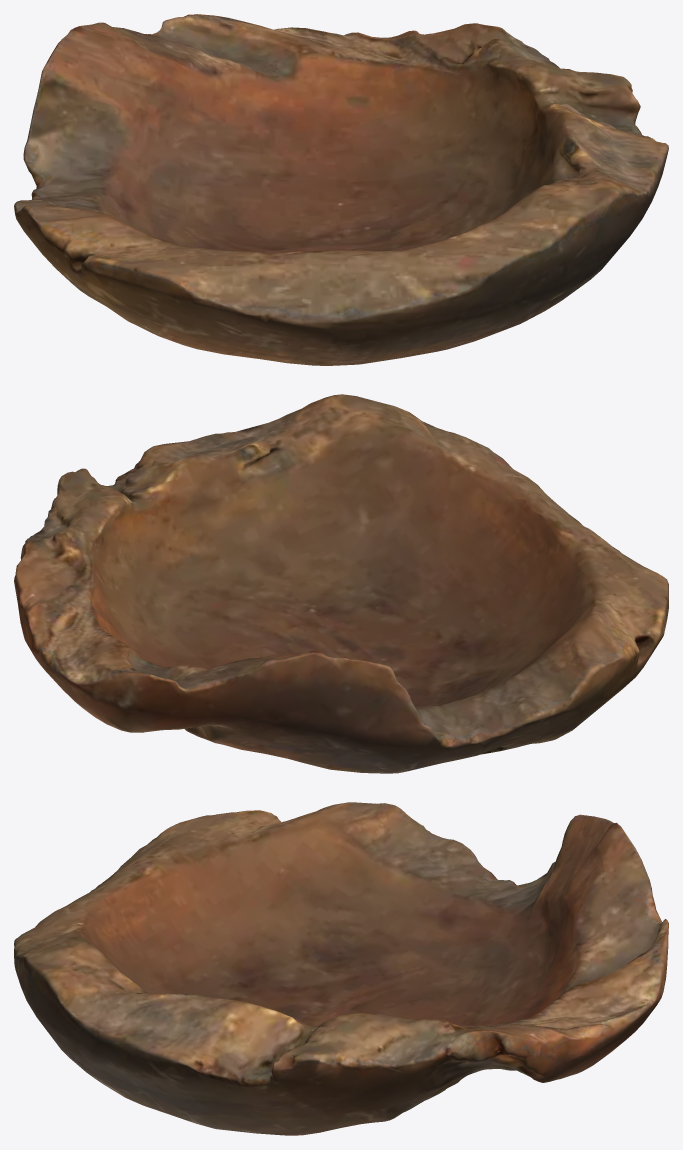
Rendered from wooden_bowl_01.51849717.glb.
3 views of the same model, one above another, from view 1: azimuth 30°, elevation 25°; view 2: azimuth 150°, elevation 25°; view 3: azimuth 270°, elevation 25° (orthographic). The views are drawn at different scales.
Visible parts, largest first — view 1: wooden_bowl_01; view 2: wooden_bowl_01; view 3: wooden_bowl_01.
Part boxes in pixels (x1=…): wooden_bowl_01: x1=14, y1=14, x2=668, y2=365; wooden_bowl_01: x1=14, y1=394, x2=668, y2=773; wooden_bowl_01: x1=14, y1=802, x2=668, y2=1135.
Size of the model in its own units: 0.7292 by 0.2182 by 0.72.
1 material, 1 textured.
